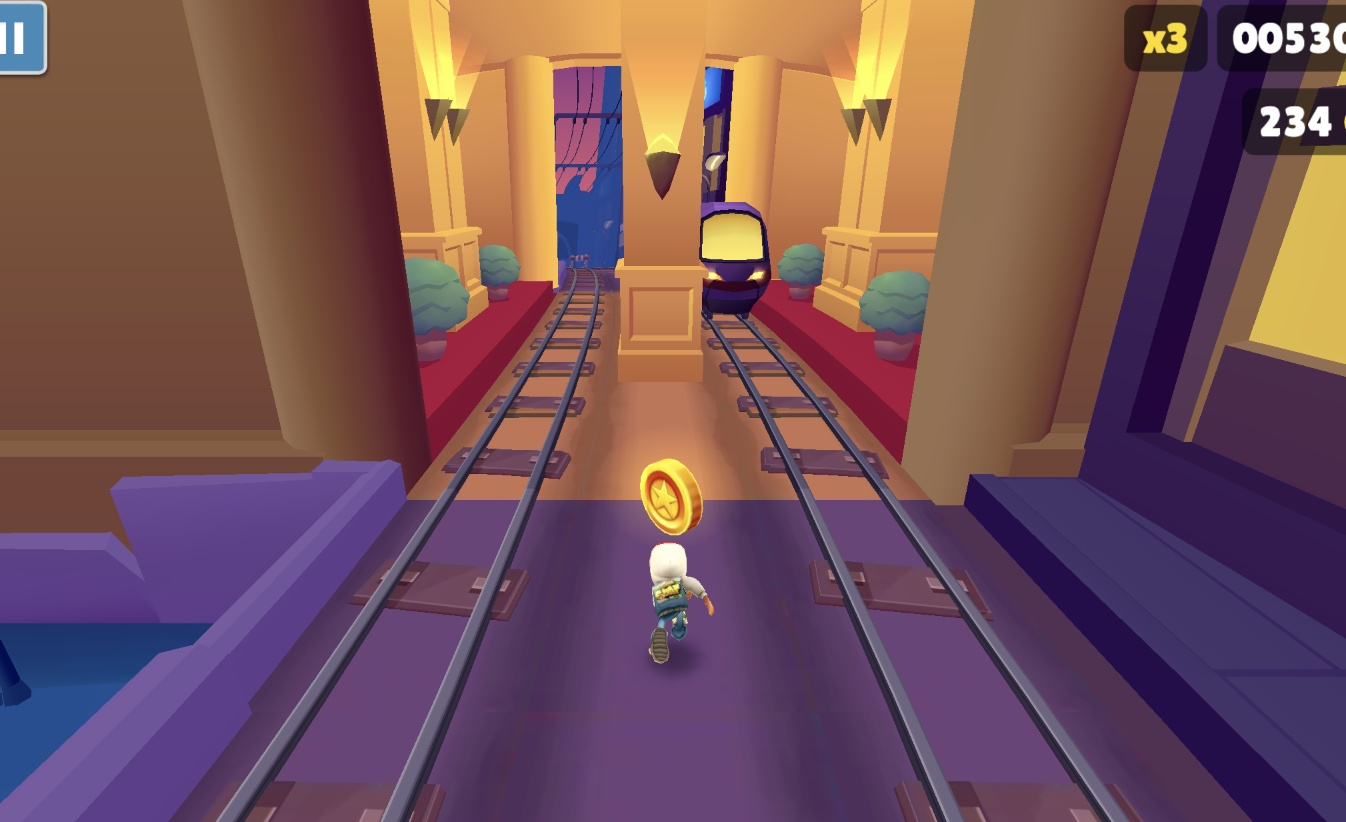pillar: (624, 0, 702, 370)
train: (704, 202, 772, 320)
